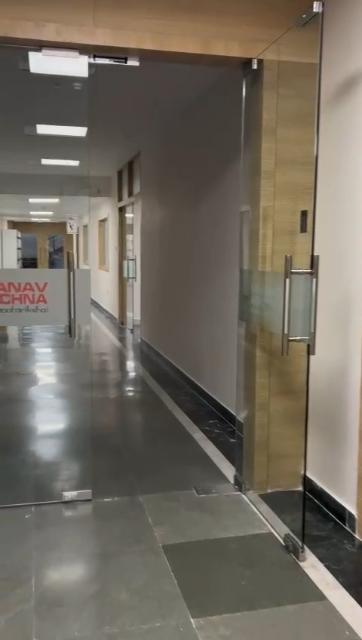door: (108, 159, 146, 343)
wall: (310, 7, 361, 486), (148, 130, 238, 382)
